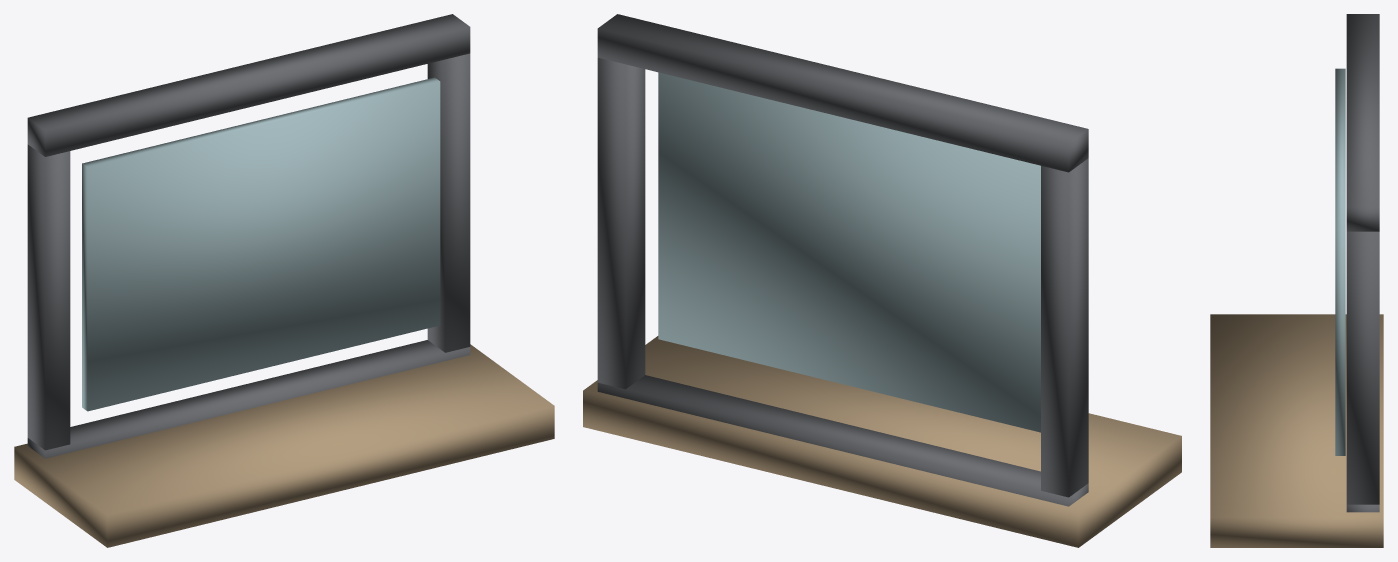
Rendered from service_window__deep.glb.
3 views of the same model, side by side, from view 1: azimuth 30°, elevation 25°; view 2: azimuth 150°, elevation 25°; view 3: azimuth 270°, elevation 25° (orthographic). The views are drawn at different scales.
Parts seen in each view (by area): view 1: world; view 2: world; view 3: world.
Part boxes in pixels (x1,y1,x2,y2): world: [14, 14, 554, 547]; world: [583, 14, 1181, 547]; world: [1210, 14, 1383, 547].
Bounding box in the file's own units: 1.42 × 1.1 × 0.5124.
